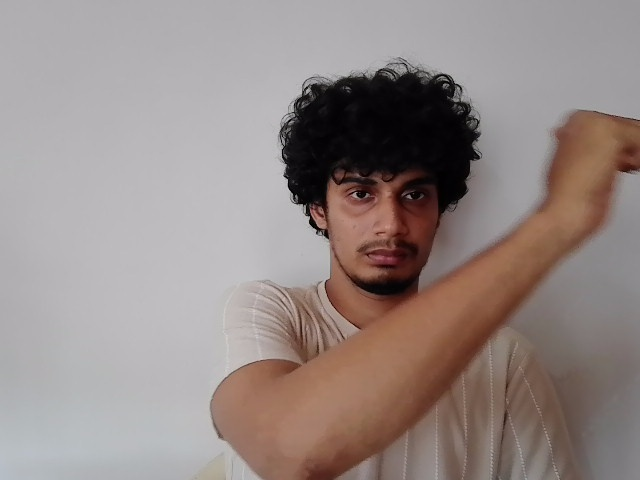how: (538, 108, 640, 239)
